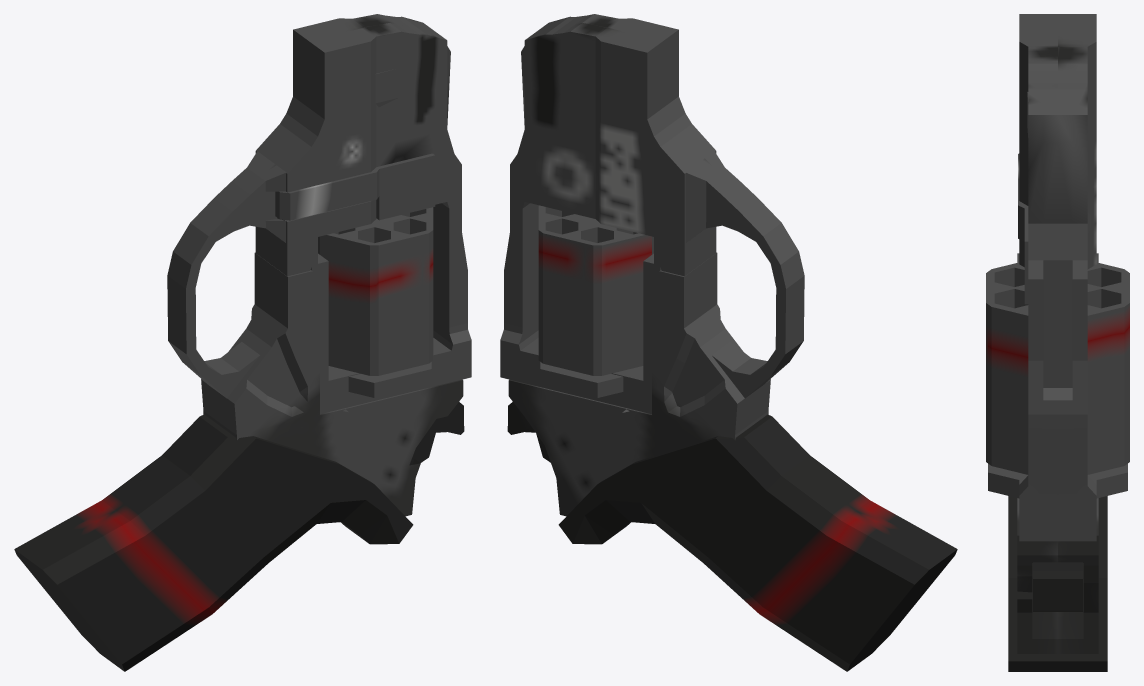
File: ReplikaRevolver.fbx
3 renders of one model, left to right at view 1: azimuth 30°, elevation 25°; view 2: azimuth 150°, elevation 25°; view 3: azimuth 270°, elevation 25°, orthographic. The views are drawn at different scales.
Visible parts, largest first — view 1: FINALRevolver; view 2: FINALRevolver; view 3: FINALRevolver.
Part boxes in pixels (x1,y1,x2,y2): FINALRevolver: (14,14,471,671); FINALRevolver: (500,14,957,671); FINALRevolver: (986,14,1129,671).
Bounding box in the file's own units: 0.0255 × 0.1371 × 0.1069.
